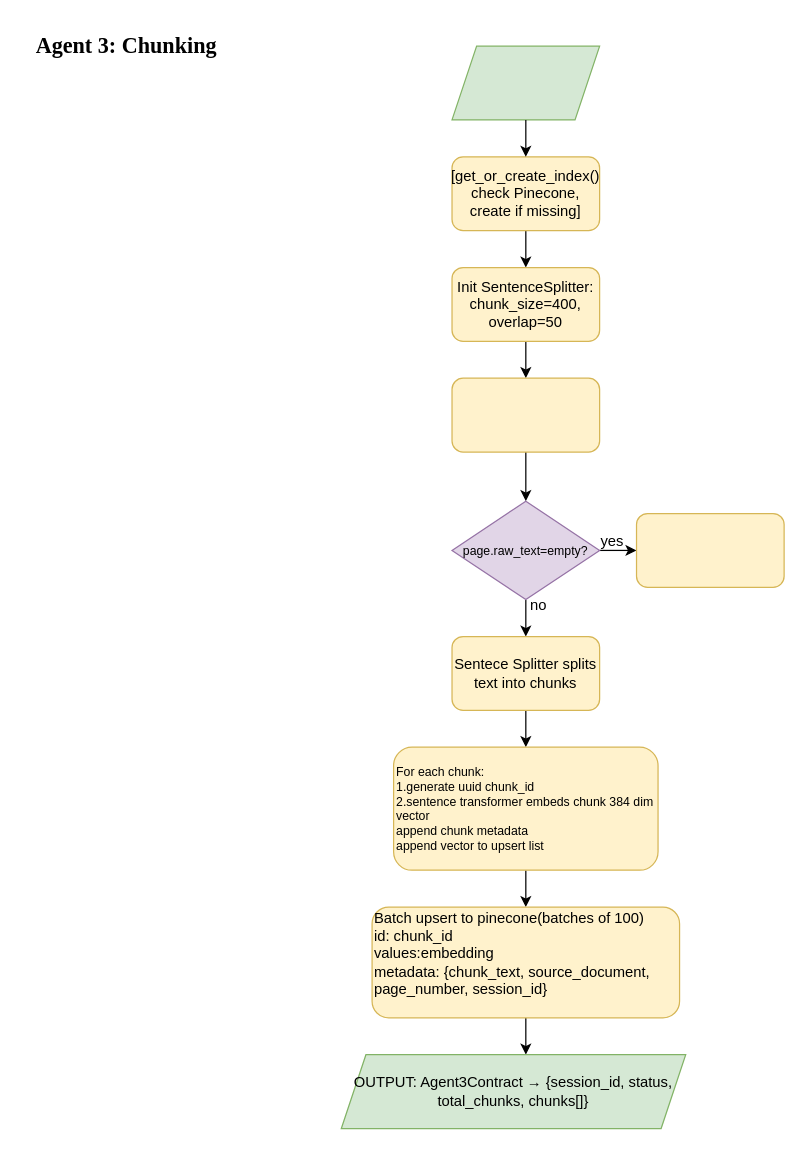
This 806x1150 diagram has some shape labels left out. The shapes that lost their labels are listed below. From the top down, each one's box as (x1, y1, x2, y2) in pixels, then its label:
(451, 45, 600, 120): INPUT: Agent2Contract
(451, 377, 600, 452): [Loop: each file → each page]
(635, 512, 784, 587): Skip
